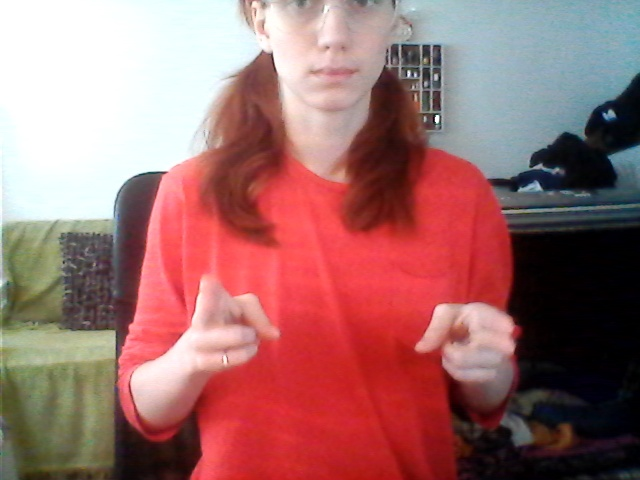ako: (172, 269, 526, 399)
